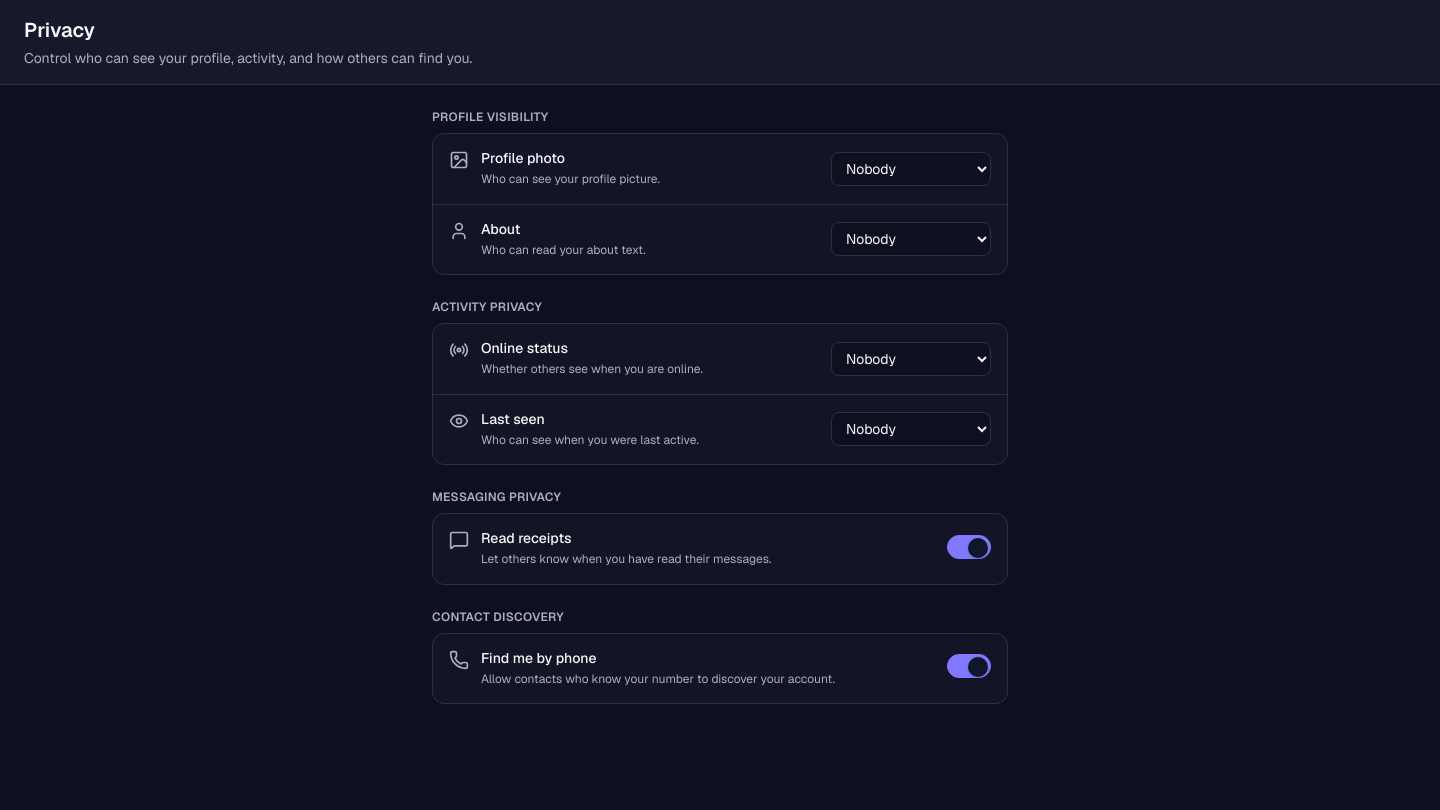
Test: contact discoverability uses the existing private settings endpoint
The width and height of the screenshot is (1440, 810).
Click the switch named "Allow exact phone contact discovery" at [969, 666], box [947,654,991,678]
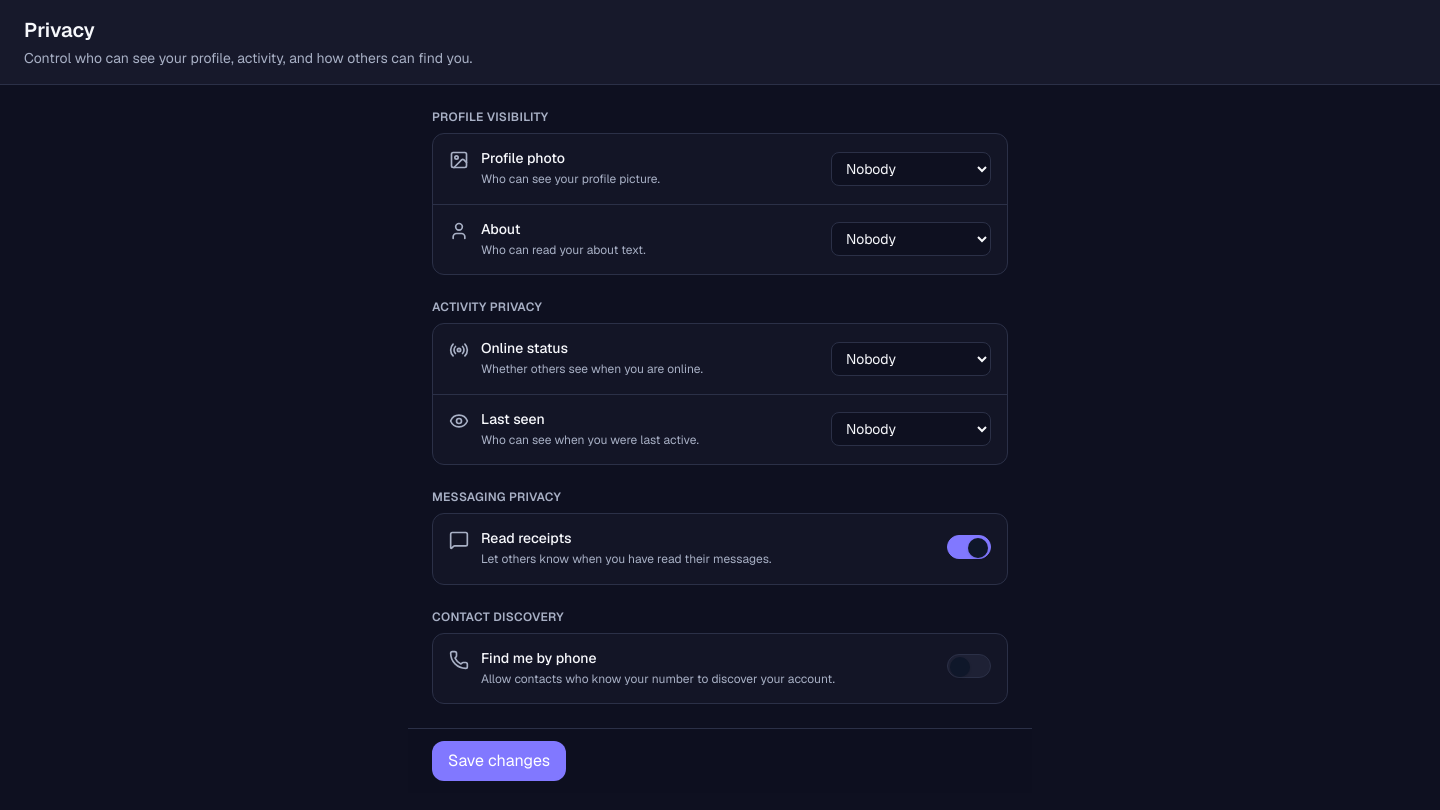
Click the button "Save changes" at [499, 761], box [432,741,566,781]
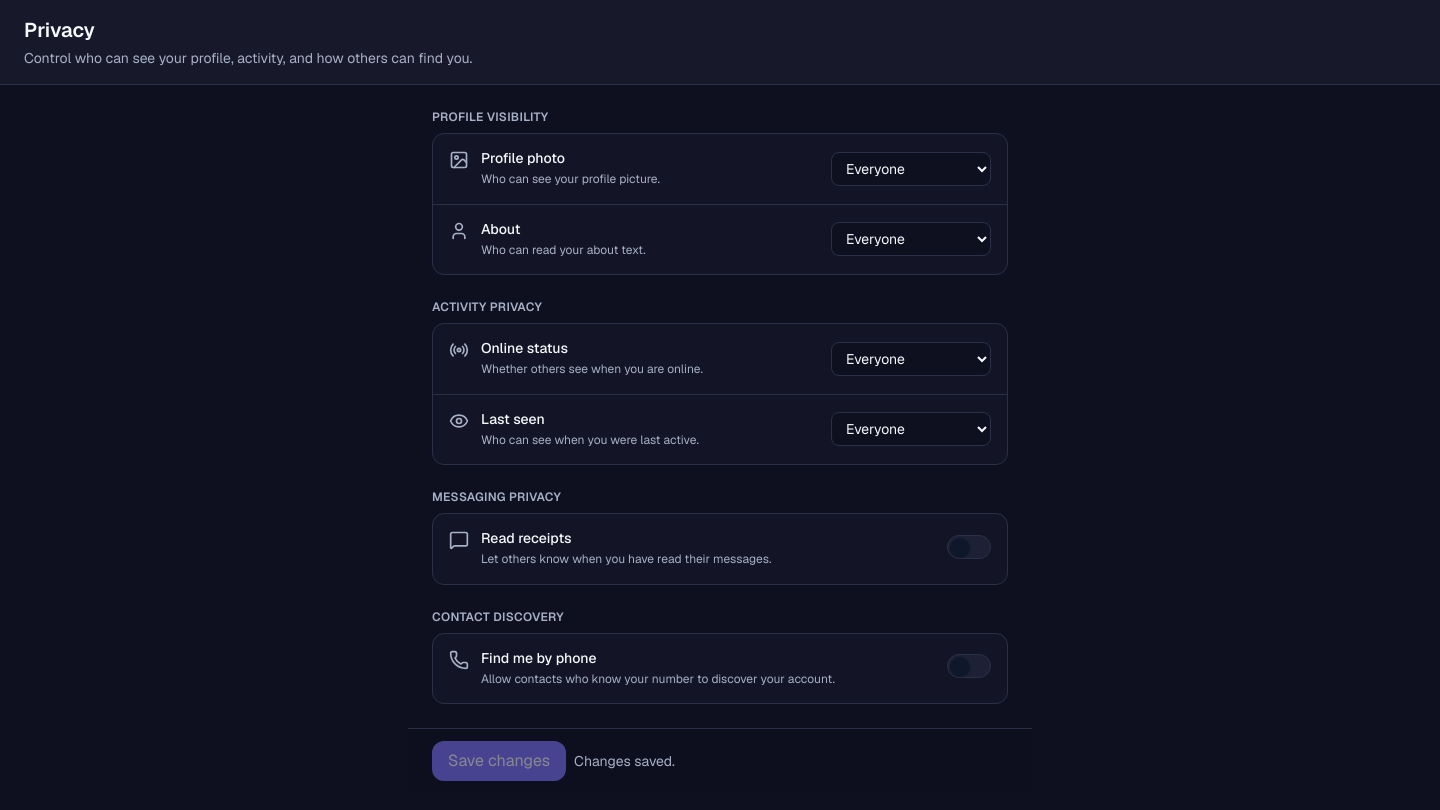
Check: the text "Changes saved." is shown, box [574,751,675,771]
